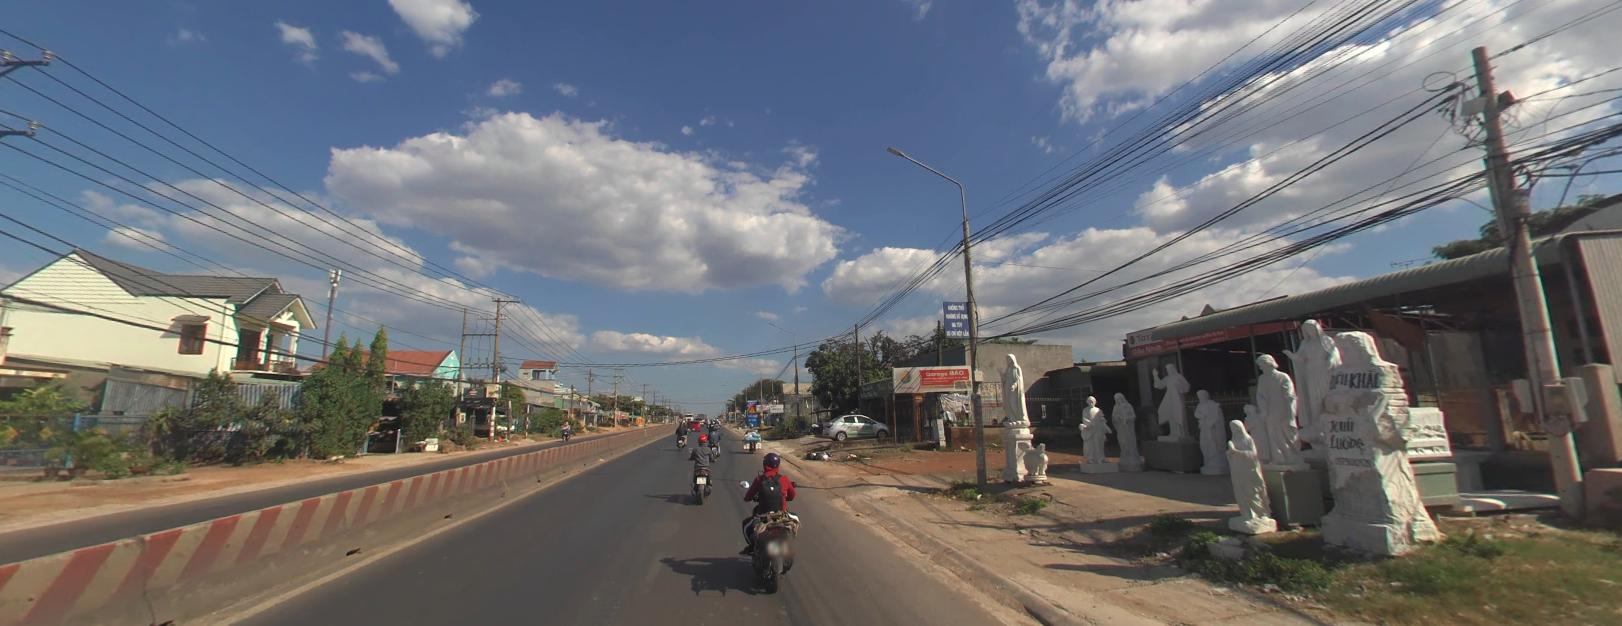Nguy hiem: (747, 404, 756, 411)
